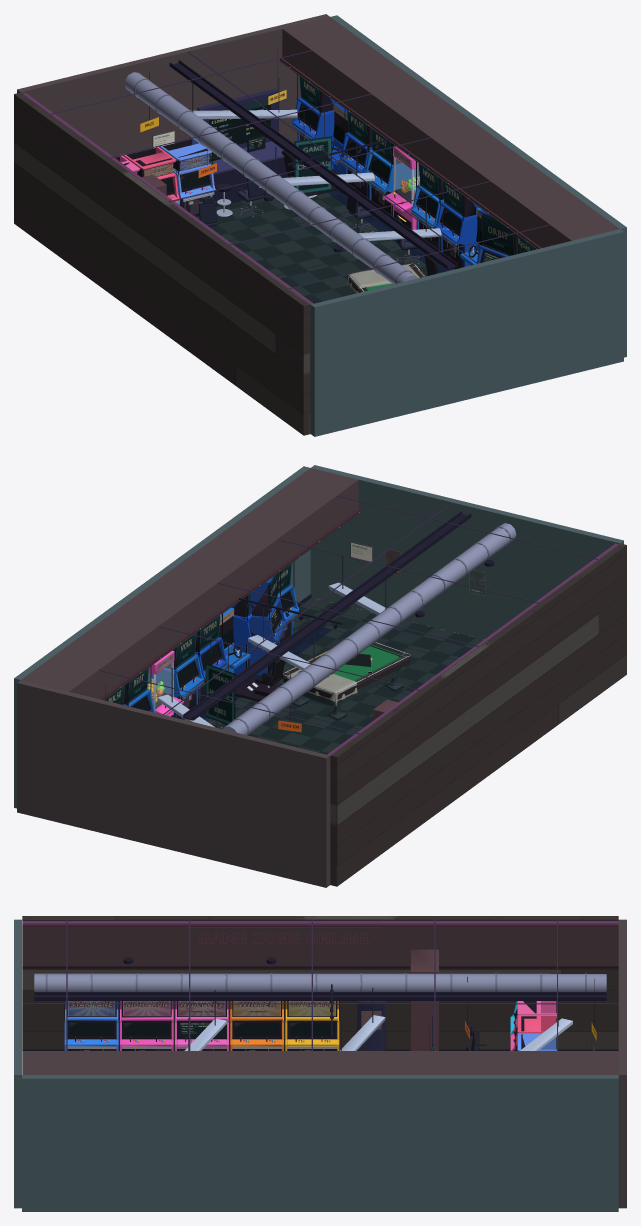
File: game-room-1-day.lod1.glb
3 views of the same model, one above another, from view 1: azimuth 30°, elevation 25°; view 2: azimuth 150°, elevation 25°; view 3: azimuth 270°, elevation 25° (orthographic). The views are drawn at different scales.
Visible parts, largest first — view 1: object 59, object 58, object 64, object 60, object 56, object 183, object 185, object 188, object 65, object 121, object 76, object 94 (+21 smaller); view 2: object 60, object 58, object 59, object 64, object 56, object 183, object 185, object 65, object 188, object 117, object 76, object 71 (+12 smaller); view 3: object 59, object 61, object 58, object 64, object 183, object 185, object 69, spot:rig-seven, object 60, object 65, object 73, object 188 (+18 smaller).
Boxes of the visible parts, x1,y1,x2,y2 form: object 59: (310, 15, 626, 436); object 58: (14, 92, 310, 435); object 64: (282, 17, 619, 247); object 60: (17, 14, 329, 157); object 56: (209, 157, 453, 303); object 183: (125, 72, 418, 284); object 185: (169, 60, 457, 269); object 188: (115, 90, 536, 268); object 65: (51, 50, 549, 288); object 121: (292, 97, 478, 266); object 76: (191, 109, 441, 240); object 94: (162, 105, 482, 244); object 60: (17, 680, 330, 887); object 58: (330, 543, 626, 886); object 59: (14, 465, 623, 808); object 64: (21, 468, 358, 698); object 56: (200, 598, 483, 754); object 183: (223, 523, 516, 734); object 185: (183, 511, 493, 720); object 65: (98, 495, 598, 734); object 188: (105, 576, 291, 718); object 117: (123, 585, 299, 717); object 76: (157, 582, 385, 727); object 71: (205, 663, 235, 724); object 59: (14, 919, 618, 1211); object 61: (22, 926, 618, 965); object 58: (22, 916, 618, 1049); object 64: (22, 1051, 618, 1074); object 183: (34, 973, 606, 991); object 185: (34, 957, 606, 1037); object 69: (22, 921, 618, 925); spot:rig-seven: (285, 1001, 339, 1050); object 60: (618, 919, 626, 1208); object 65: (22, 919, 618, 1050); object 73: (410, 949, 438, 1050); object 188: (67, 1001, 556, 1050).
Bounding box in the file's own units: 9.4 × 3.68 × 15.
Materials: 194 (62 with a texture image).
